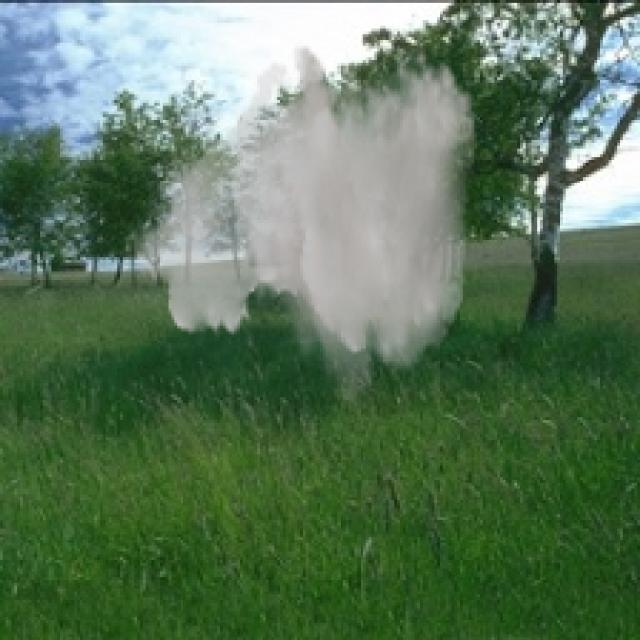smoke: (123, 43, 477, 414)
